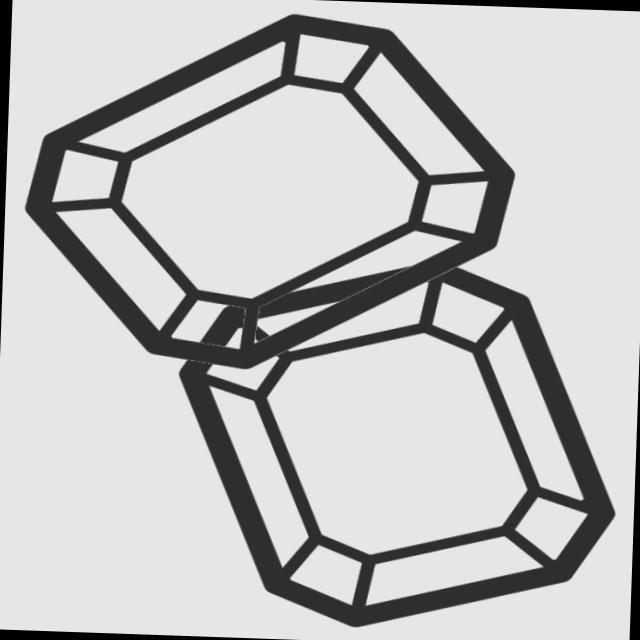emerald: (14, 1, 526, 381), (158, 243, 631, 640)
